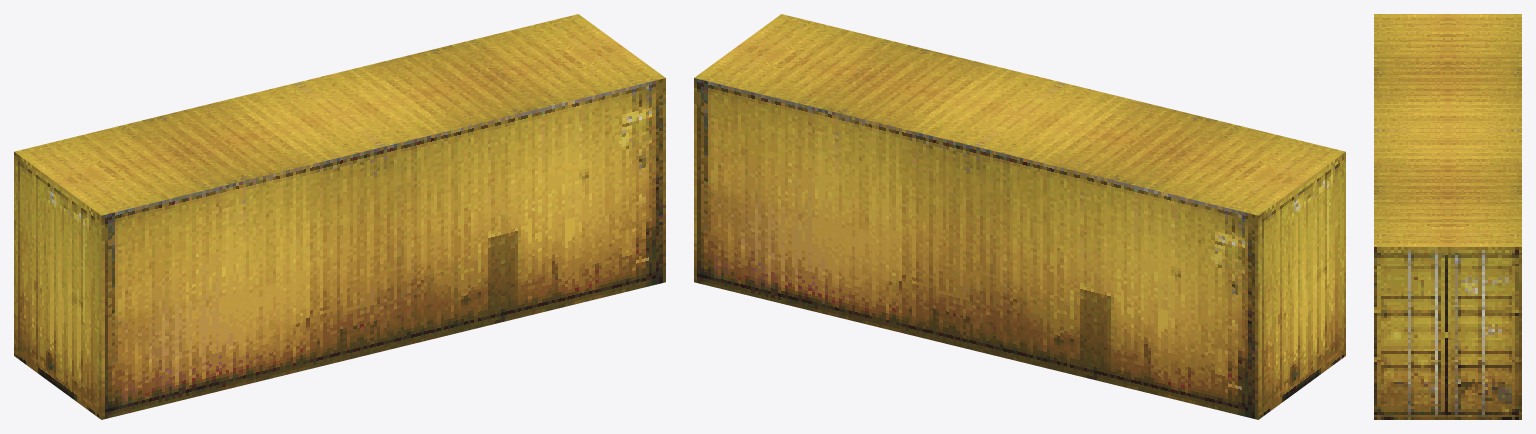
The model's file is container_6.glb.
3 views of the same model, side by side, from view 1: azimuth 30°, elevation 25°; view 2: azimuth 150°, elevation 25°; view 3: azimuth 270°, elevation 25° (orthographic). The views are drawn at different scales.
Parts seen in each view (by area): view 1: Object_62; view 2: Object_62; view 3: Object_62.
Part boxes in pixels (x1=…): Object_62: x1=14, y1=14, x2=665, y2=419; Object_62: x1=694, y1=14, x2=1345, y2=419; Object_62: x1=1374, y1=14, x2=1521, y2=419.
Size of the model in its own units: 6.06 by 2.1 by 1.63.
1 material, 1 textured.
